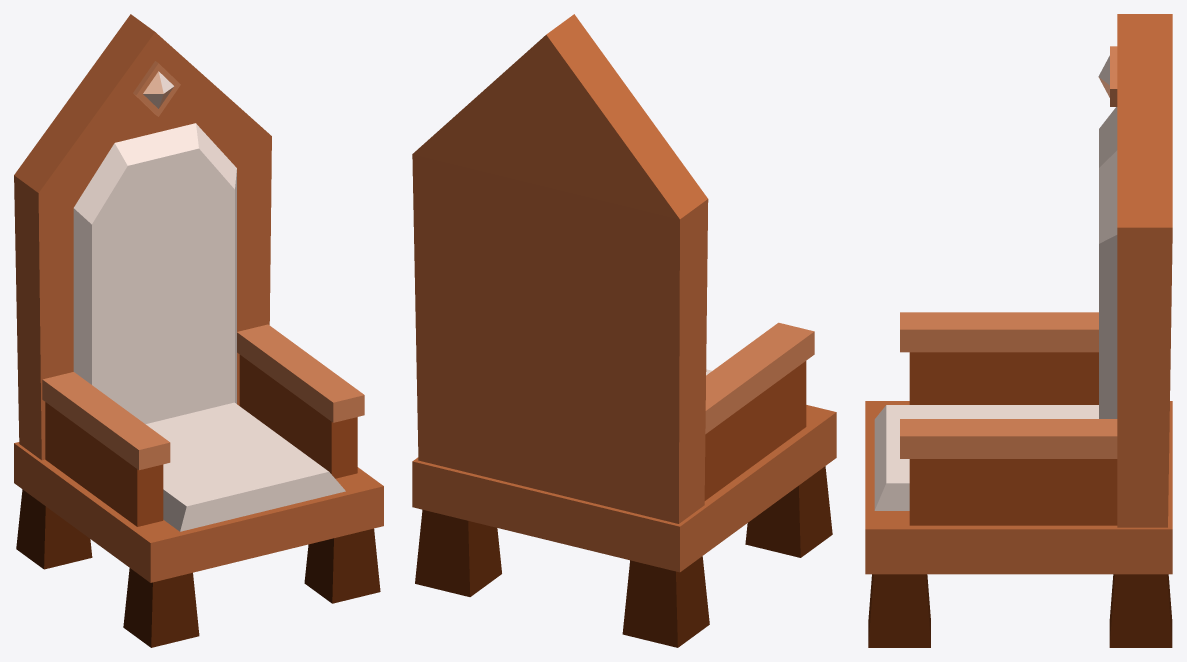
The model's file is Chair 05.fbx.
3 views of the same model, side by side, from view 1: azimuth 30°, elevation 25°; view 2: azimuth 150°, elevation 25°; view 3: azimuth 270°, elevation 25° (orthographic). The views are drawn at different scales.
Visible parts, largest first — view 1: Chair_05; view 2: Chair_05; view 3: Chair_05.
Boxes of the visible parts, x1=… form: Chair_05: x1=14, y1=14, x2=383, y2=647; Chair_05: x1=412, y1=14, x2=836, y2=647; Chair_05: x1=865, y1=14, x2=1172, y2=647.
Size of the model in its own units: 76.84 by 160 by 77.86.
